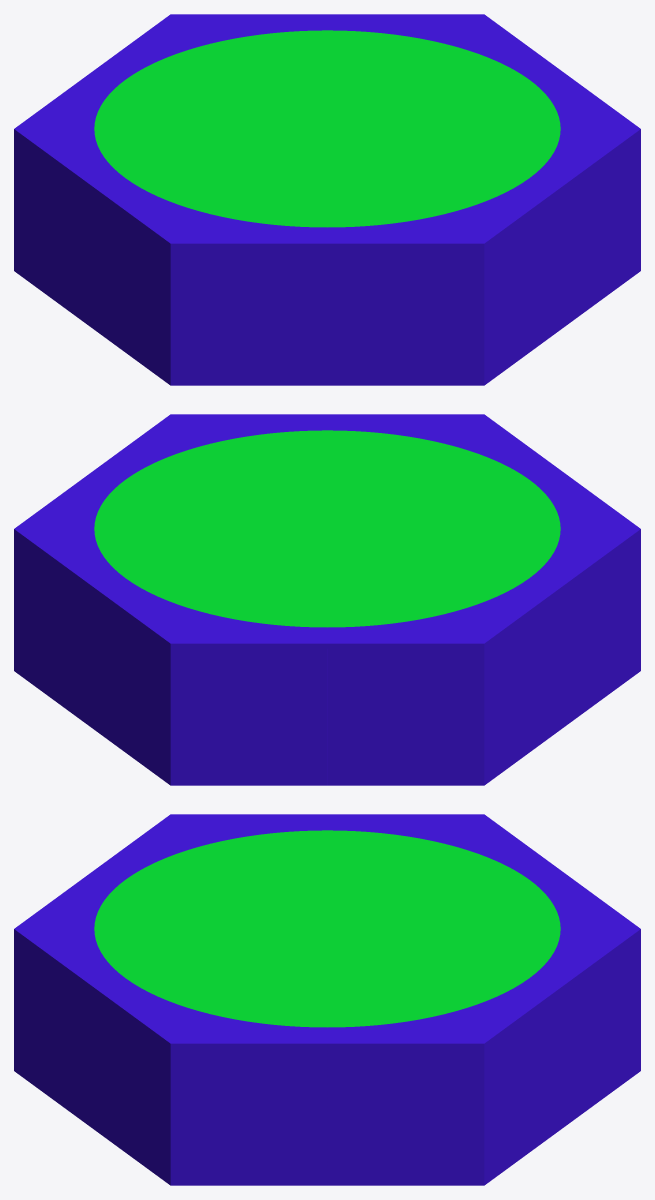
Rendered from Hexagon3.FBX.
The picture shows the model from 3 angles, top to bottom: view 1: azimuth 30°, elevation 25°; view 2: azimuth 150°, elevation 25°; view 3: azimuth 270°, elevation 25°; orthographic projection.
Parts seen in each view (by area): view 1: Inner, Outter6, Outter5, Outter1, Outter4, Outter2, Outter3; view 2: Inner, Outter1, Outter2, Outter3, Outter6, Outter4, Outter5; view 3: Inner, Outter3, Outter4, Outter2, Outter5, Outter1, Outter6.
Part boxes in pixels (x1,y1,x2,y2): Inner: (56, 14, 598, 243); Outter6: (92, 186, 327, 385); Outter5: (327, 186, 562, 385); Outter1: (14, 73, 92, 327); Outter4: (562, 73, 640, 327); Outter2: (96, 14, 309, 68); Outter3: (345, 14, 558, 68); Inner: (56, 414, 598, 643); Outter1: (327, 586, 562, 785); Outter2: (92, 586, 327, 785); Outter3: (14, 473, 92, 727); Outter6: (562, 473, 640, 727); Outter4: (96, 414, 309, 468); Outter5: (345, 414, 558, 468); Inner: (56, 814, 598, 1182); Outter3: (327, 986, 562, 1185); Outter4: (92, 986, 327, 1185); Outter2: (562, 873, 640, 1127); Outter5: (14, 873, 92, 1127); Outter1: (345, 814, 558, 868); Outter6: (96, 814, 309, 868).
Size of the model in its own units: 1.73 by 2 by 0.5.
